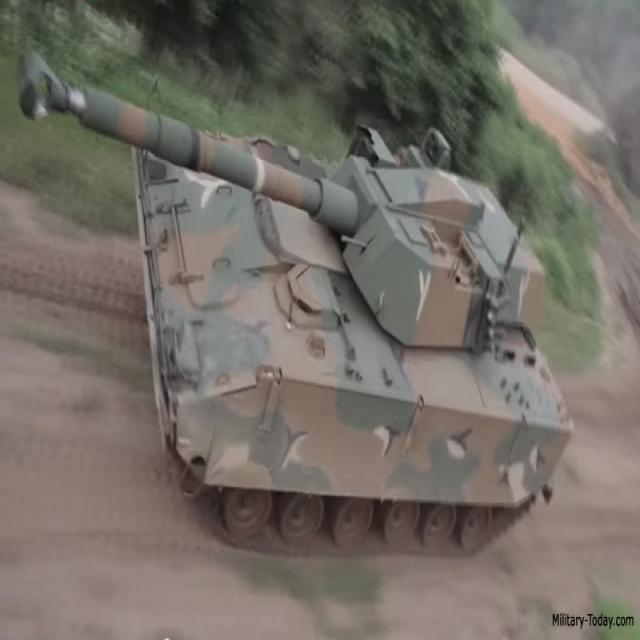Tank: (26, 26, 586, 593)
